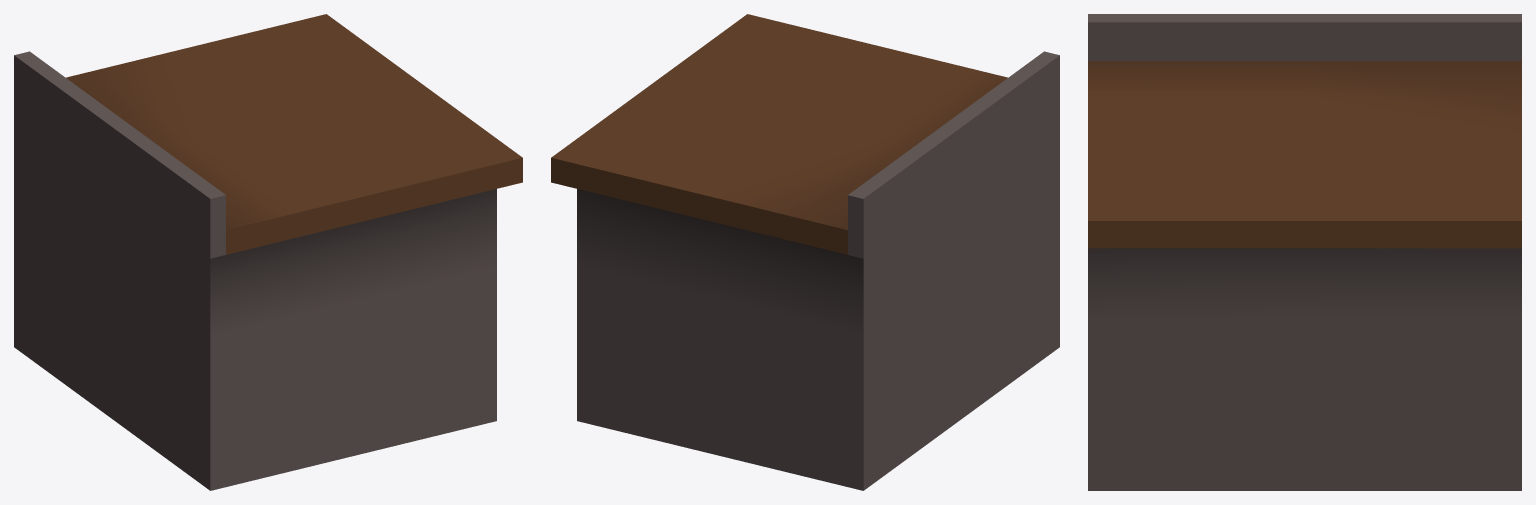
File: Cozinha_00.fbx
The picture shows the model from 3 angles, left to right: view 1: azimuth 30°, elevation 25°; view 2: azimuth 150°, elevation 25°; view 3: azimuth 270°, elevation 25°; orthographic projection. The views are drawn at different scales.
Visible parts, largest first — view 1: Plane.013; view 2: Plane.013; view 3: Plane.013.
Boxes of the visible parts, bbox=[...] form: Plane.013: bbox=[14, 14, 522, 490]; Plane.013: bbox=[551, 14, 1059, 490]; Plane.013: bbox=[1088, 14, 1521, 490].
Bounding box in the file's own units: 231 × 206 × 251.
